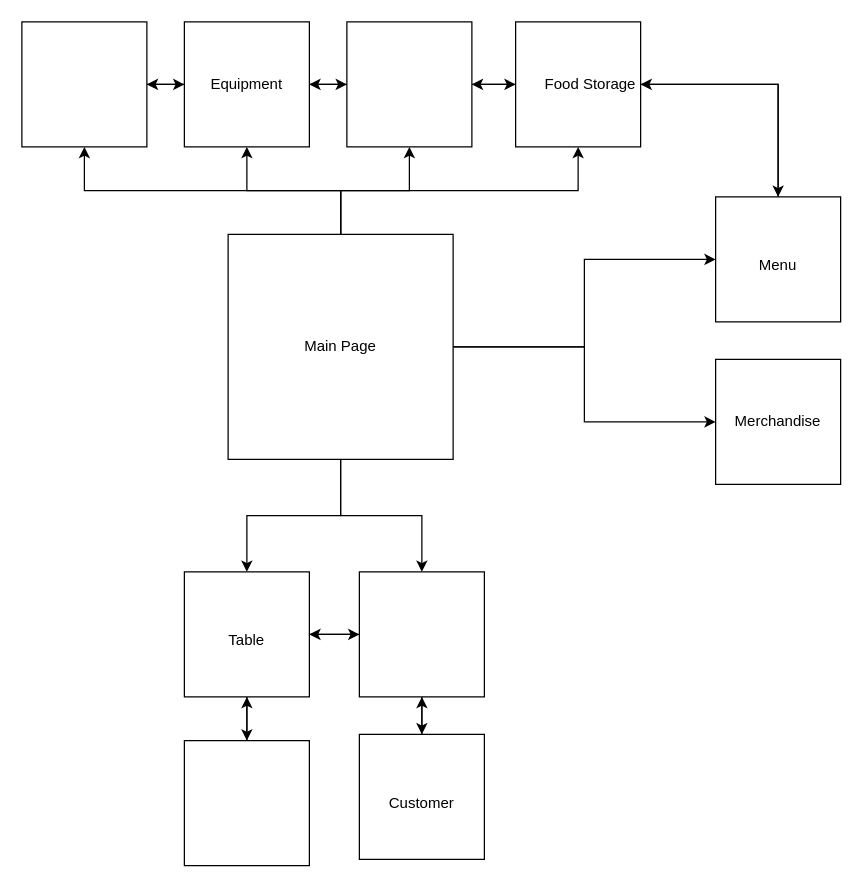
Some shapes in this 863 by 888 pixel diagram are drawn without their labels. Here are the shapes that lost their labels. From the top down, the centre of each, then its label:
At point (84, 84): "Vendor".
At point (409, 84): "Food Item".
At point (421, 634): "Party".
At point (246, 802): "Employee".
